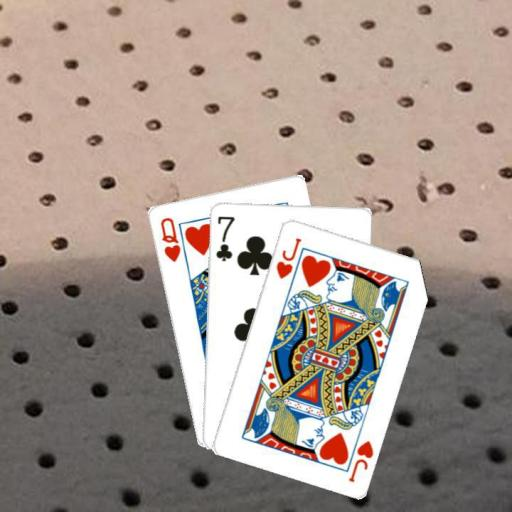7C: (213, 212, 236, 262)
JH: (272, 234, 303, 280), (345, 437, 375, 484)
QH: (156, 214, 182, 263)
